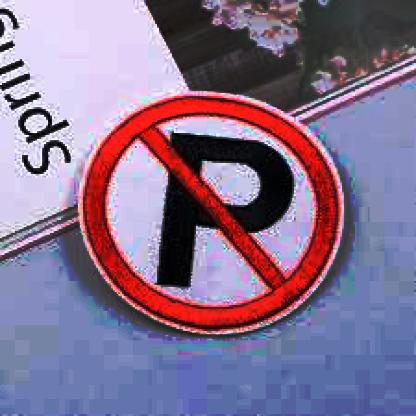No parking: (84, 84, 339, 331)
